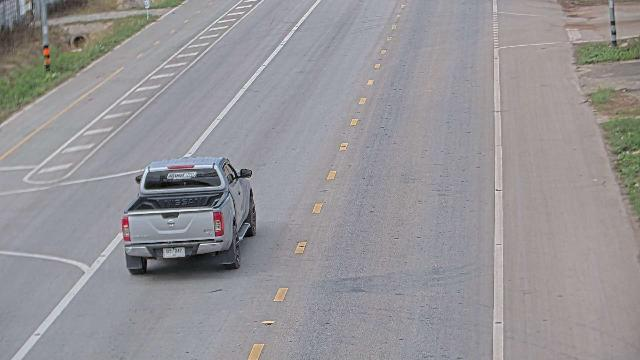pickup-truck: (121, 155, 257, 275)
